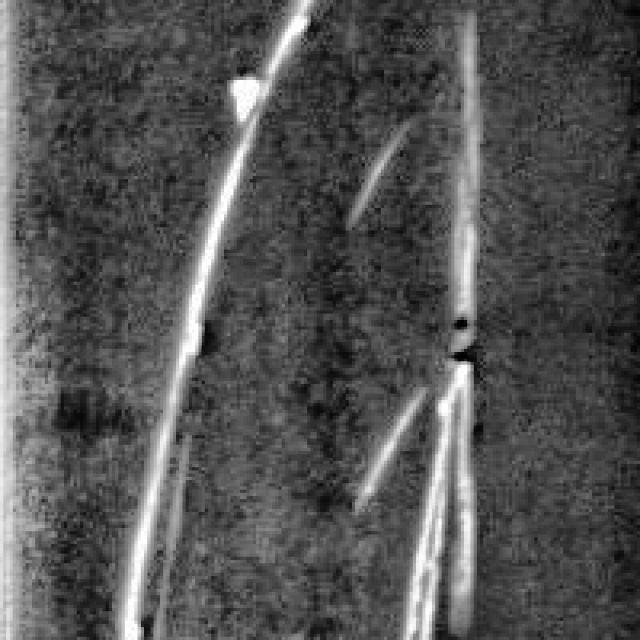Inclusion: (108, 0, 307, 630), (355, 12, 480, 630)
